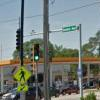Traffic light: (10, 23, 43, 77)
